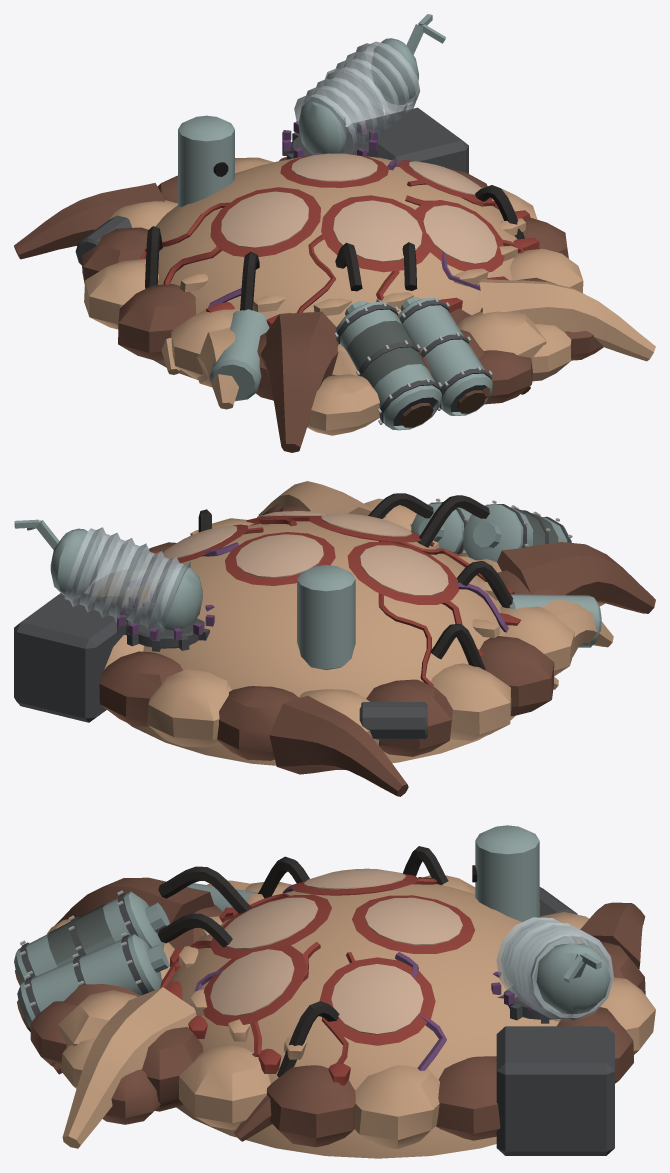
The model's file is captive-biter-spawner.glb.
The picture shows the model from 3 angles, top to bottom: view 1: azimuth 30°, elevation 25°; view 2: azimuth 150°, elevation 25°; view 3: azimuth 270°, elevation 25°; orthographic projection. The views are drawn at different scales.
Parts seen in each view (by area): view 1: body, anim_pads_captive, anim_bellows_captive; view 2: body, anim_pads_captive, anim_bellows_captive; view 3: body, anim_pads_captive, anim_bellows_captive.
Part boxes in pixels (bbox=[...]): body: bbox=[14, 70, 655, 452]; anim_pads_captive: bbox=[221, 153, 497, 264]; anim_bellows_captive: bbox=[325, 14, 445, 135]; body: bbox=[14, 481, 655, 796]; anim_pads_captive: bbox=[163, 511, 448, 595]; anim_bellows_captive: bbox=[14, 519, 146, 622]; body: bbox=[14, 825, 655, 1158]; anim_pads_captive: bbox=[210, 868, 462, 1034]; anim_bellows_captive: bbox=[509, 922, 613, 1021].
Size of the model in its own units: 5.27 by 2.04 by 5.96.
